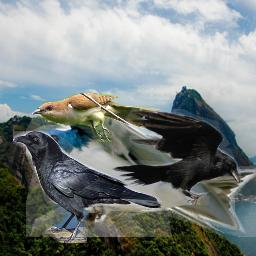Crow: (13, 131, 162, 243), (109, 109, 241, 205)
Cuckoo: (32, 93, 171, 142)
Swallow: (26, 111, 256, 237)
